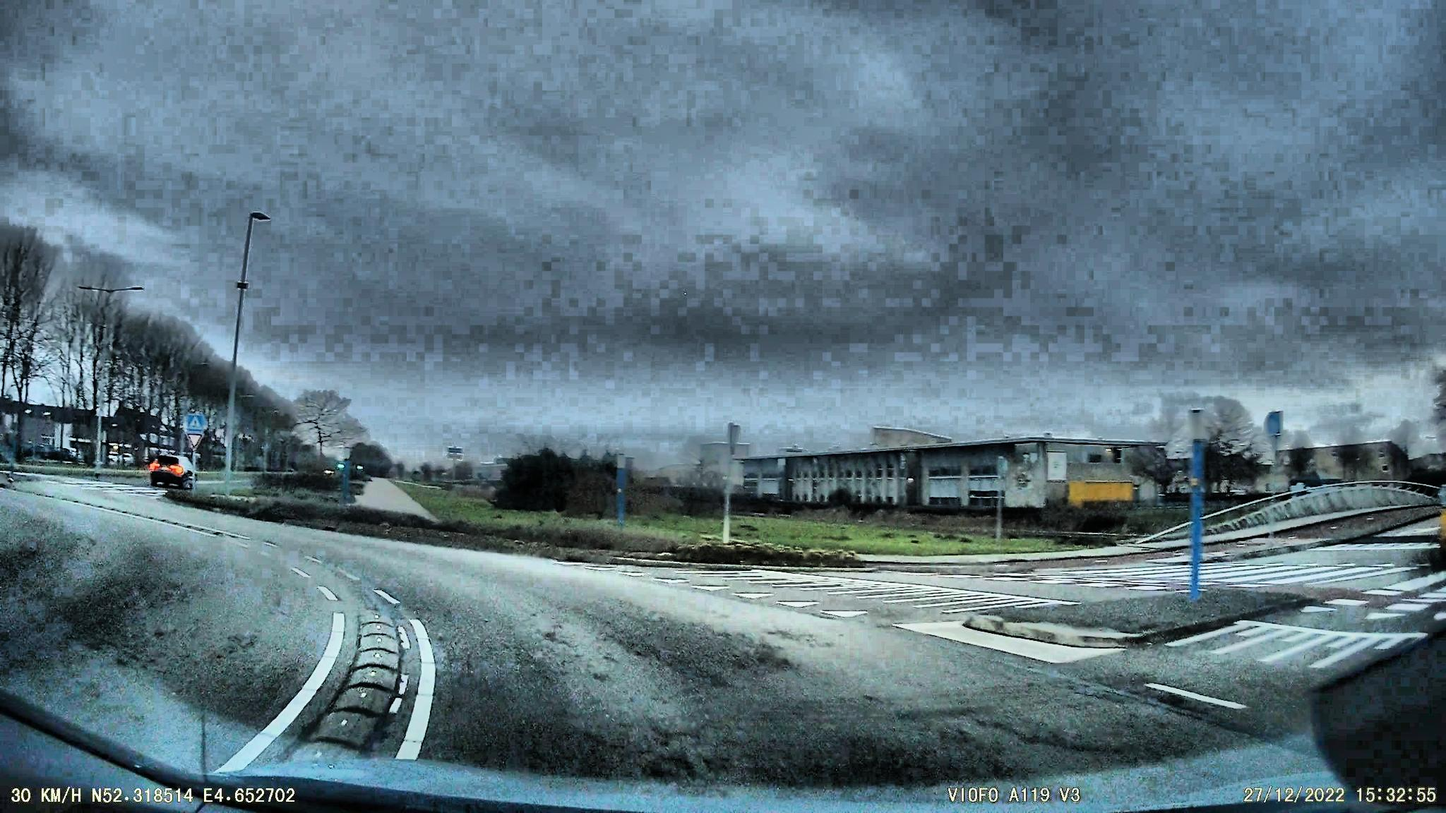Roads: (0, 486, 1446, 813)
